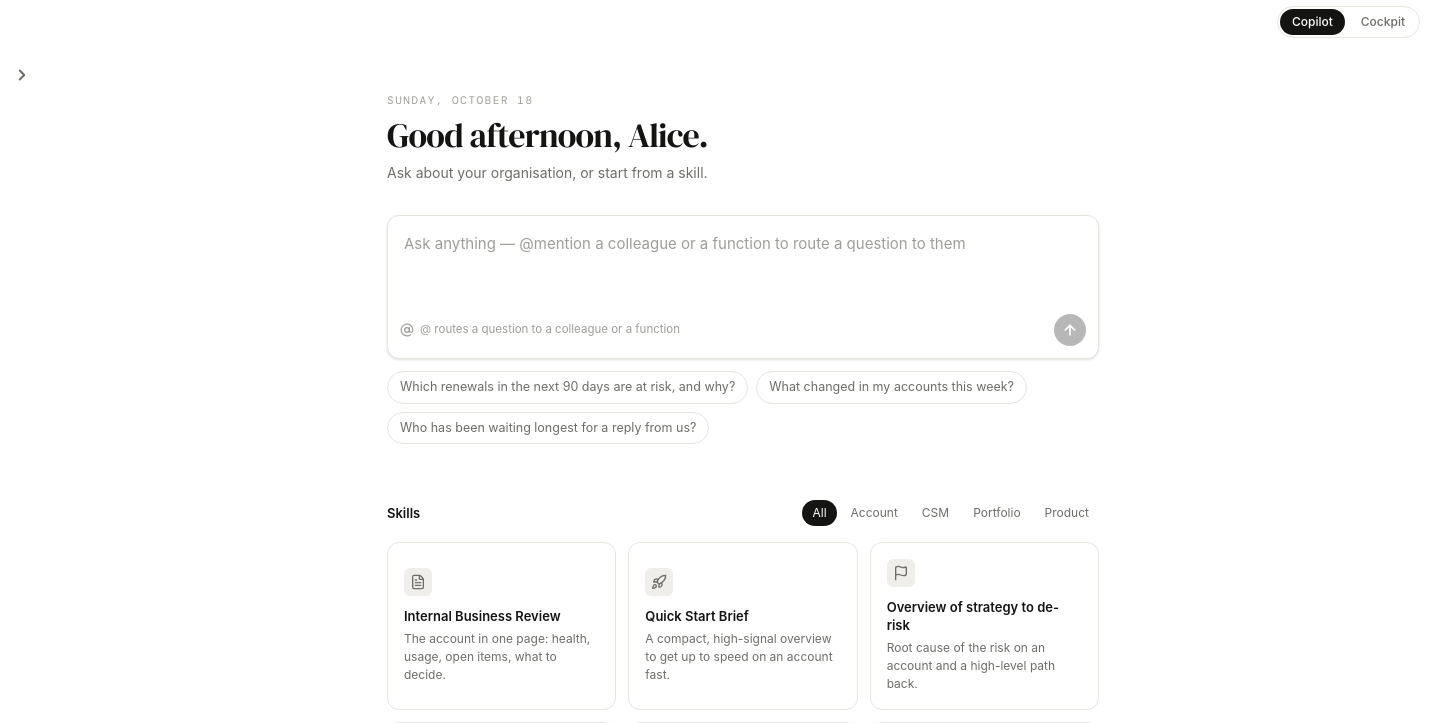
Session decisions privacy (SOC2:AUTH-02) › never lets an earlier conversation's slow decisions GET land after a switch and clobber the new one
Click the button named "Expand sidebar".
click(23, 74)  # box x1=11 y1=60 x2=35 y2=88
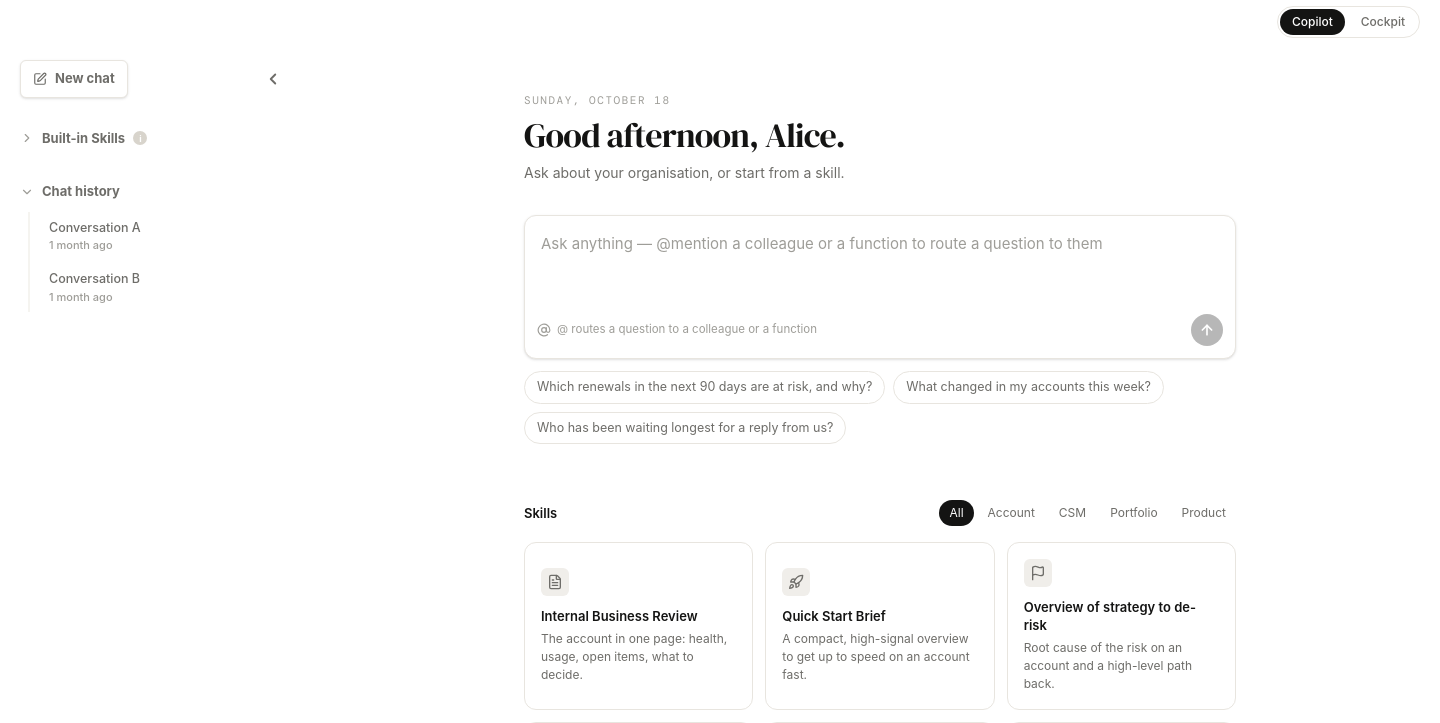
Click the text "Conversation A".
click(95, 227)  # box x1=49 y1=220 x2=141 y2=234
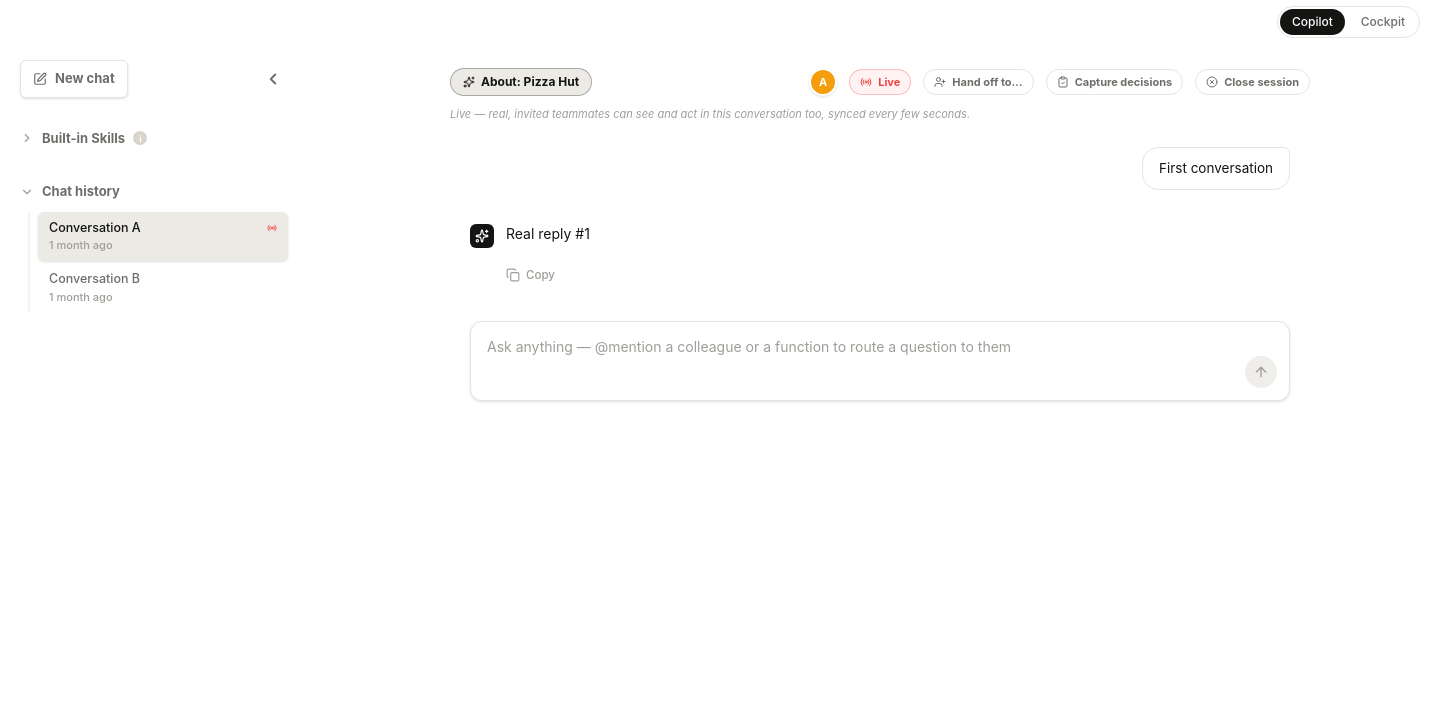
Now the text "First conversation" is shown, box x1=1142 y1=146 x2=1290 y2=190
Click the text "Conversation B".
click(94, 278)  # box x1=49 y1=271 x2=140 y2=286
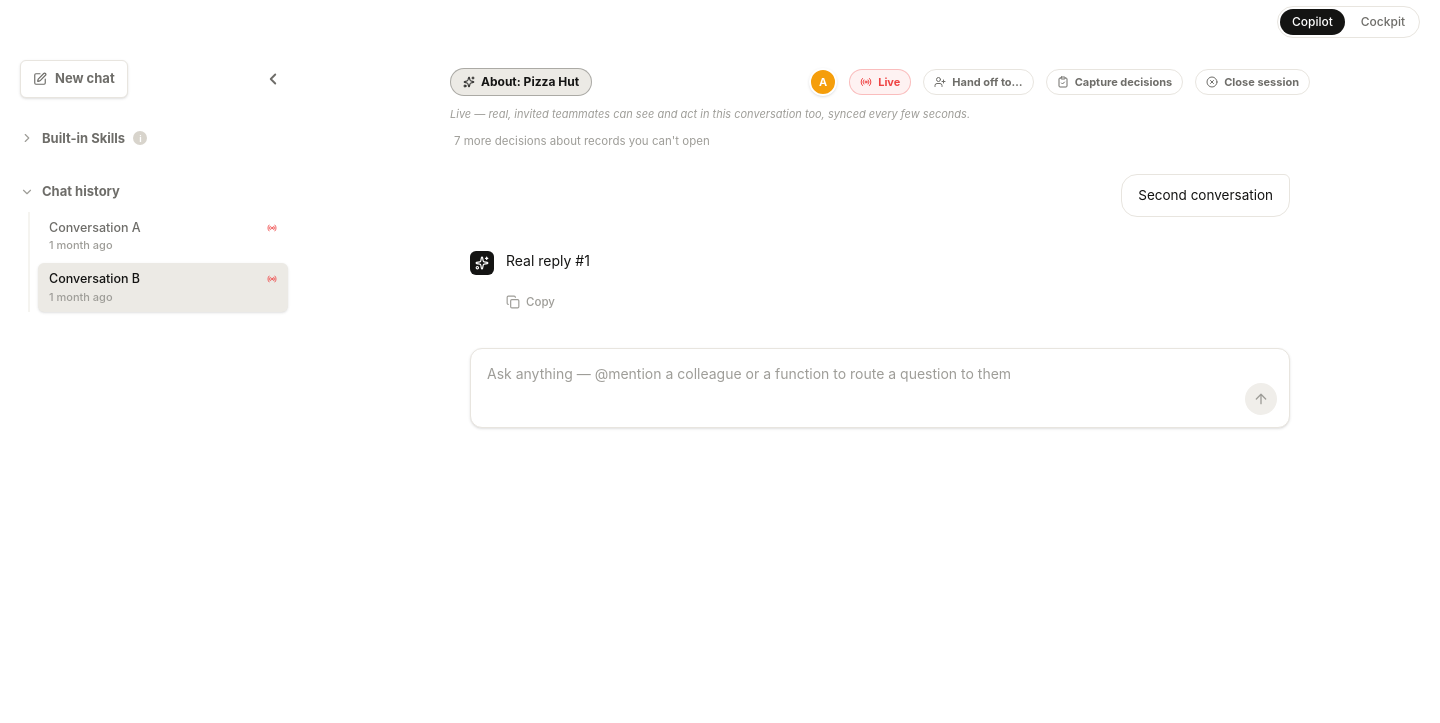
Now the text "7 more decisions about records you can't open" is shown, box x1=454 y1=134 x2=710 y2=148
